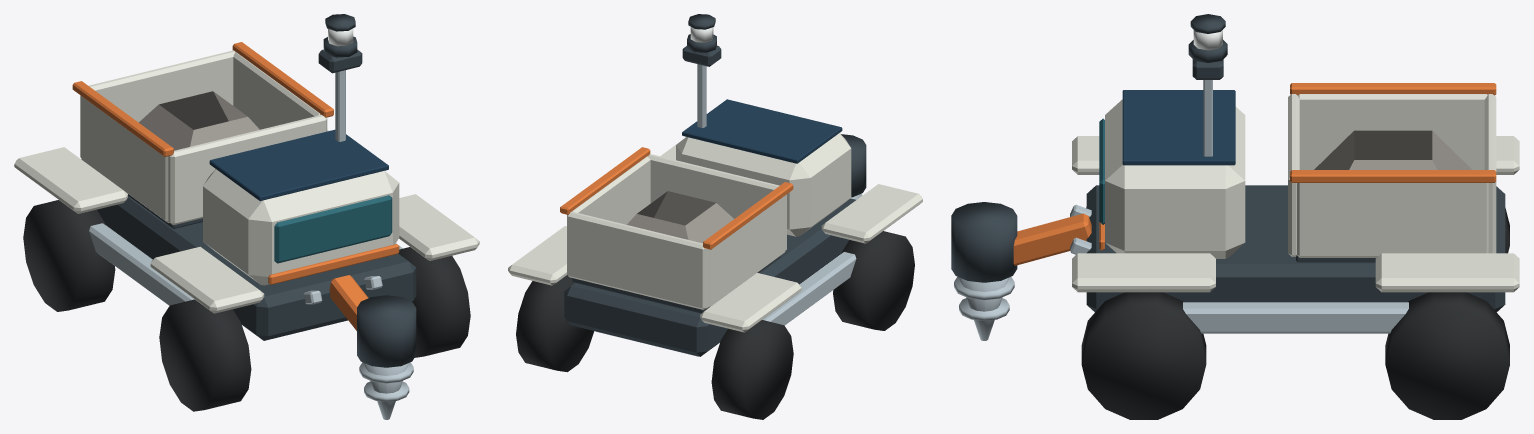
File: rover.glb
3 renders of one model, left to right at view 1: azimuth 30°, elevation 25°; view 2: azimuth 150°, elevation 25°; view 3: azimuth 270°, elevation 25°, orthographic. The views are drawn at different scales.
Visible parts, largest first — view 1: rover_ivory, rover_dark, Wheel_LF, Wheel_LB, Drill, rover_pv, Wheel_RF, rover_glass, rover_orange, Cargo, rover_metal; view 2: rover_ivory, rover_dark, Wheel_LB, Wheel_LF, rover_pv, Wheel_RB, Cargo, rover_metal, rover_orange, Drill; view 3: rover_ivory, rover_dark, Wheel_RF, Wheel_RB, Drill, rover_pv, rover_metal, rover_orange, Cargo, rover_glass.
Boxes of the visible parts, x1,y1,x2,y2 form: rover_ivory: [14, 50, 479, 313]; rover_dark: [97, 14, 416, 340]; Wheel_LF: [159, 299, 251, 411]; Wheel_LB: [23, 200, 115, 311]; Drill: [303, 275, 416, 419]; rover_pv: [209, 129, 388, 200]; Wheel_RF: [398, 247, 470, 357]; rover_glass: [274, 195, 392, 263]; rover_orange: [72, 42, 399, 284]; Cargo: [139, 91, 259, 150]; rover_metal: [89, 70, 402, 305]; rover_ivory: [508, 133, 922, 332]; rover_dark: [564, 14, 855, 356]; Wheel_LB: [711, 320, 793, 419]; Wheel_LF: [833, 231, 914, 330]; rover_pv: [682, 99, 842, 163]; Wheel_RB: [516, 275, 594, 372]; Cargo: [627, 191, 733, 243]; rover_metal: [596, 64, 856, 356]; rover_orange: [560, 147, 793, 249]; Drill: [841, 134, 866, 199]; rover_ivory: [1072, 94, 1519, 292]; rover_dark: [1086, 14, 1505, 312]; Wheel_RF: [1081, 292, 1206, 419]; Wheel_RB: [1385, 292, 1509, 419]; Drill: [951, 202, 1091, 340]; rover_pv: [1122, 90, 1235, 165]; rover_metal: [1183, 80, 1408, 333]; rover_orange: [1099, 83, 1496, 250]; Cargo: [1314, 130, 1471, 169]; rover_glass: [1099, 118, 1104, 224].
Size of the model in its own units: 1.79 by 2.03 by 2.92.
